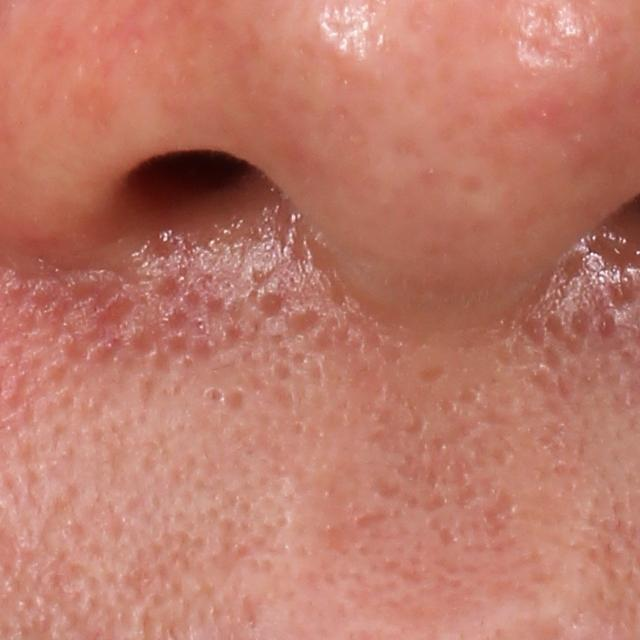atrophic_scar: (360, 395, 480, 507), (313, 506, 393, 556), (84, 292, 141, 334), (482, 484, 519, 533), (278, 306, 326, 343), (366, 475, 406, 503), (255, 289, 286, 320)
comedo: (195, 382, 233, 414)
